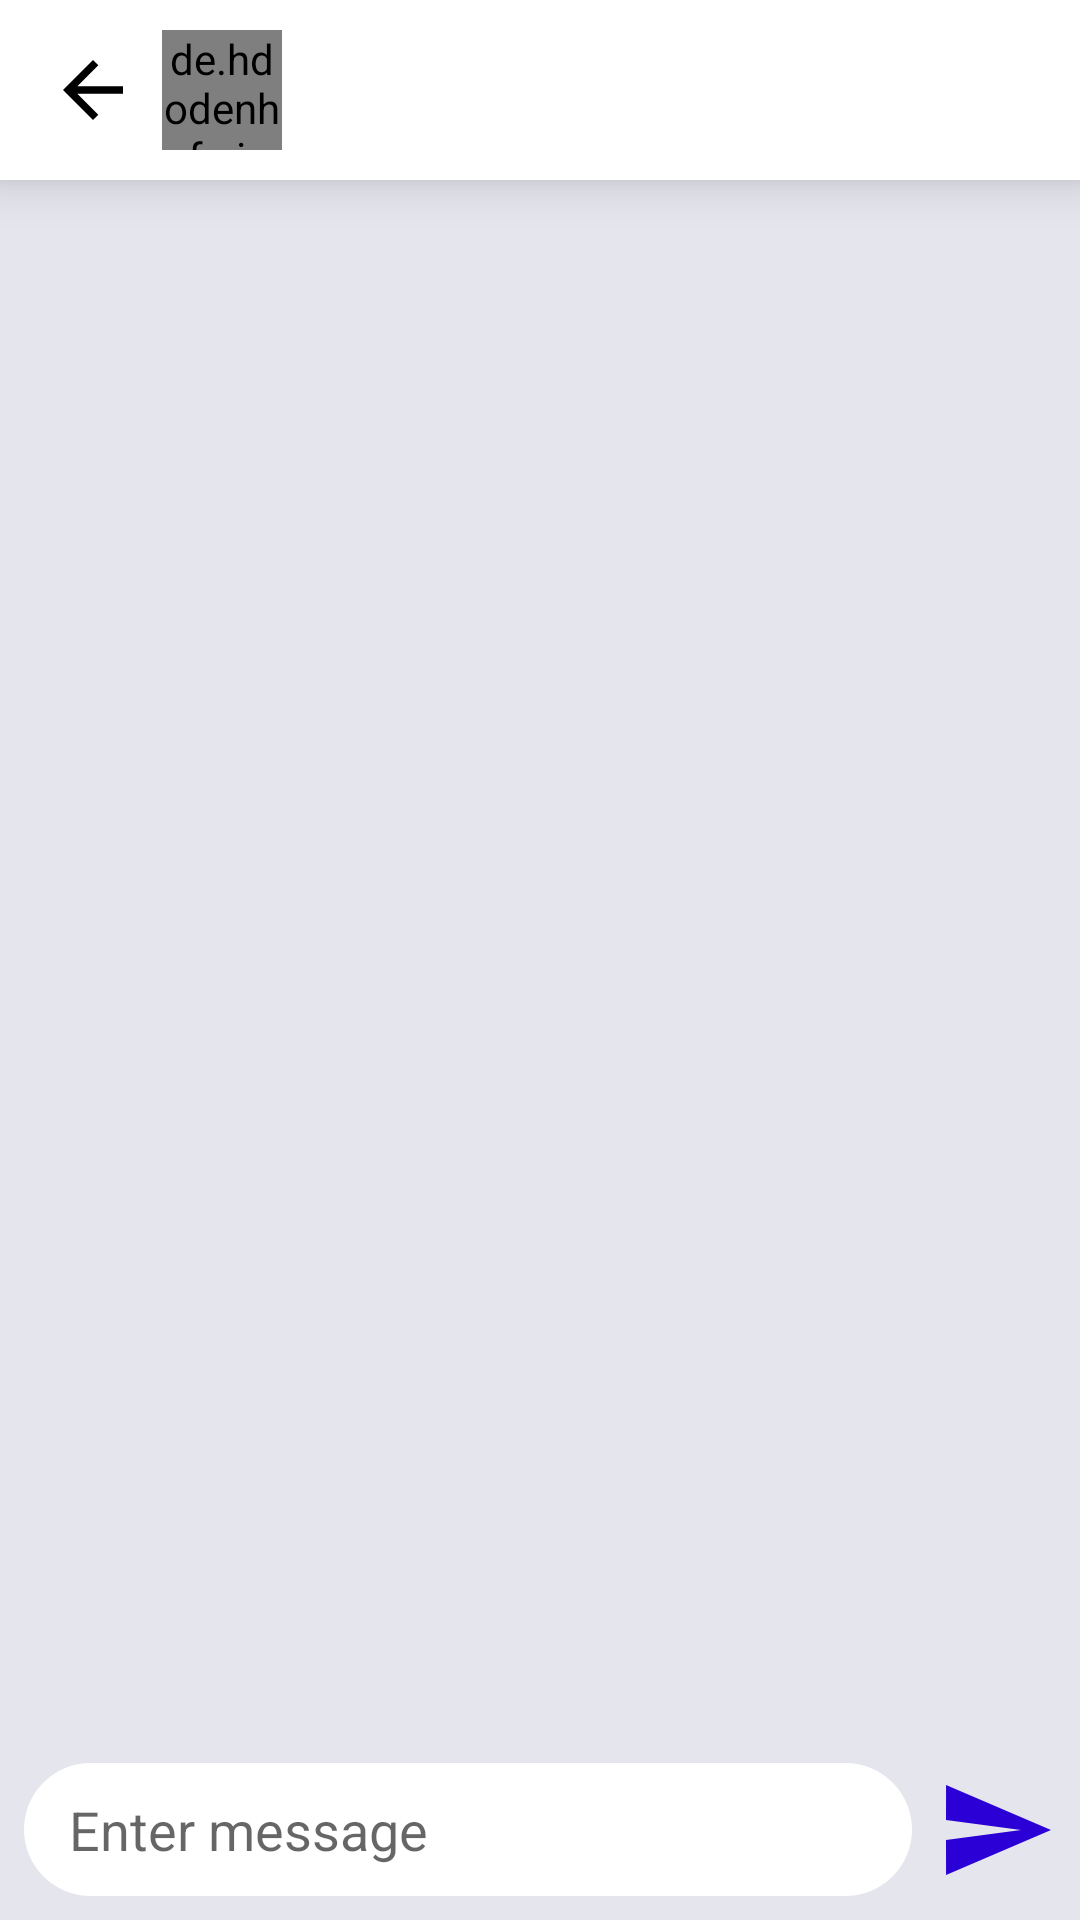

Icons on this 1080px×1920px Android screen, each with the point to tap as [x,y]:
back: [93,90]
send: [998,1830]
